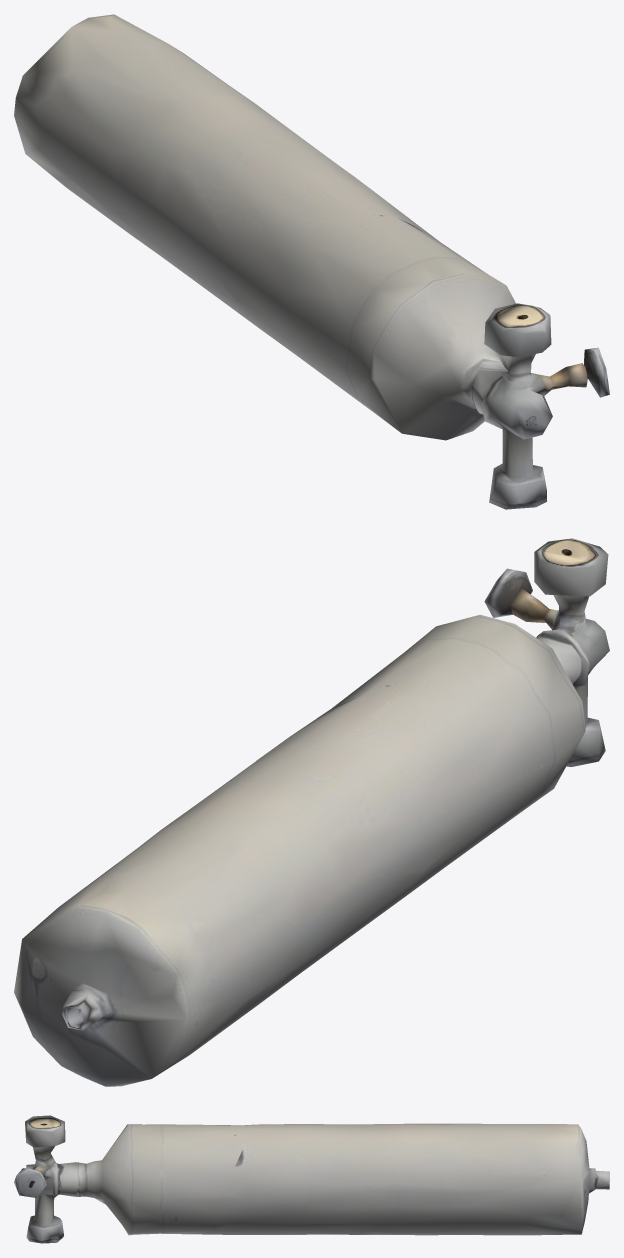
Rendered from oxygen.glb.
3 views of the same model, one above another, from view 1: azimuth 30°, elevation 25°; view 2: azimuth 150°, elevation 25°; view 3: azimuth 270°, elevation 25° (orthographic). The views are drawn at different scales.
Visible parts, largest first — view 1: tripo_node_880d50a8-2498-4d11-a1ba-05134b16950f; view 2: tripo_node_880d50a8-2498-4d11-a1ba-05134b16950f; view 3: tripo_node_880d50a8-2498-4d11-a1ba-05134b16950f.
Boxes of the visible parts, x1,y1,x2,y2 form: tripo_node_880d50a8-2498-4d11-a1ba-05134b16950f: [14, 14, 609, 509]; tripo_node_880d50a8-2498-4d11-a1ba-05134b16950f: [14, 538, 609, 1086]; tripo_node_880d50a8-2498-4d11-a1ba-05134b16950f: [14, 1115, 609, 1243].
Size of the model in its own units: 0.5566 by 0.6 by 2.82.
Materials: 1 (1 with a texture image).
